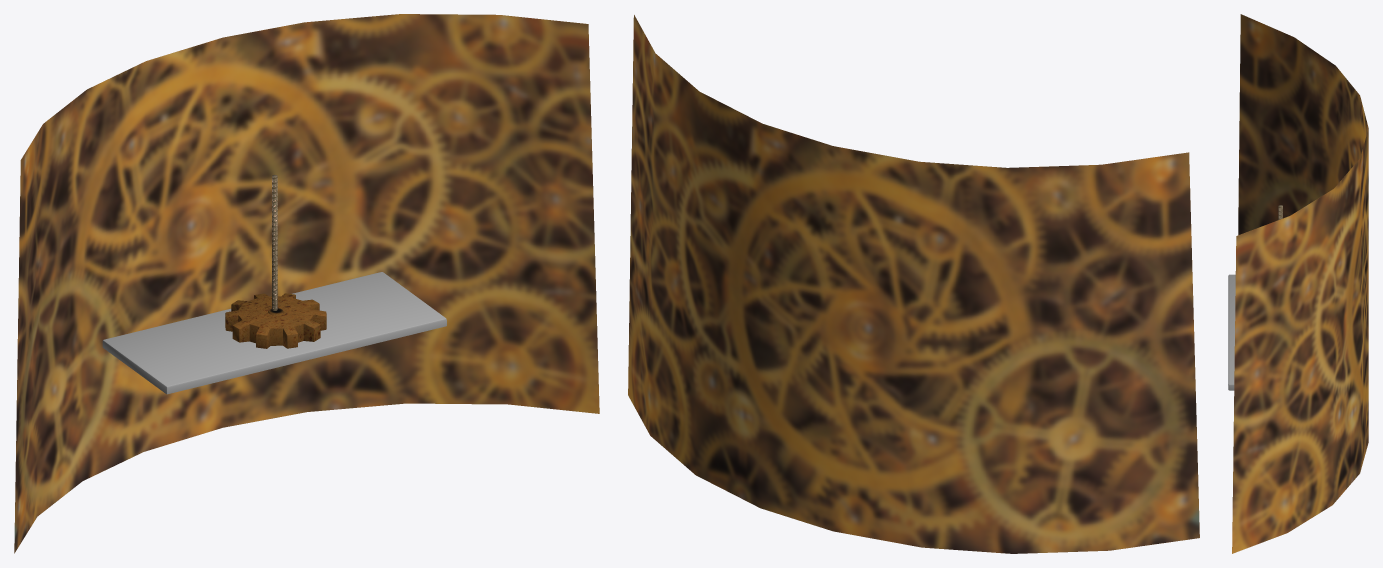
Rendered from Steam.fbx.
3 views of the same model, side by side, from view 1: azimuth 30°, elevation 25°; view 2: azimuth 150°, elevation 25°; view 3: azimuth 270°, elevation 25° (orthographic). The views are drawn at different scales.
Visible parts, largest first — view 1: Steam_Env, Steam_Base, Steam_Disc, Steam_Staff; view 2: Steam_Env; view 3: Steam_Env, Steam_Base.
Boxes of the visible parts, x1,y1,x2,y2 form: Steam_Env: (14,14,599,553); Steam_Base: (102,272,446,394); Steam_Disc: (225,293,326,348); Steam_Staff: (272,175,277,310); Steam_Env: (628,15,1199,553); Steam_Env: (1232,14,1368,553); Steam_Base: (1228,274,1235,390).
Bounding box in the file's own units: 36.45 × 23.61 × 9.43.
